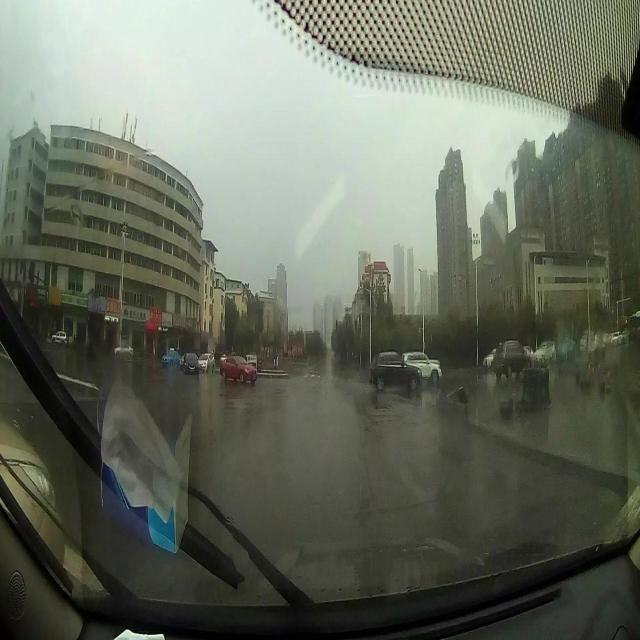car: (371, 350, 422, 394), (492, 338, 532, 380), (401, 350, 442, 386), (218, 353, 258, 382), (182, 352, 198, 377), (162, 347, 180, 369), (114, 342, 134, 358), (200, 353, 214, 373)
